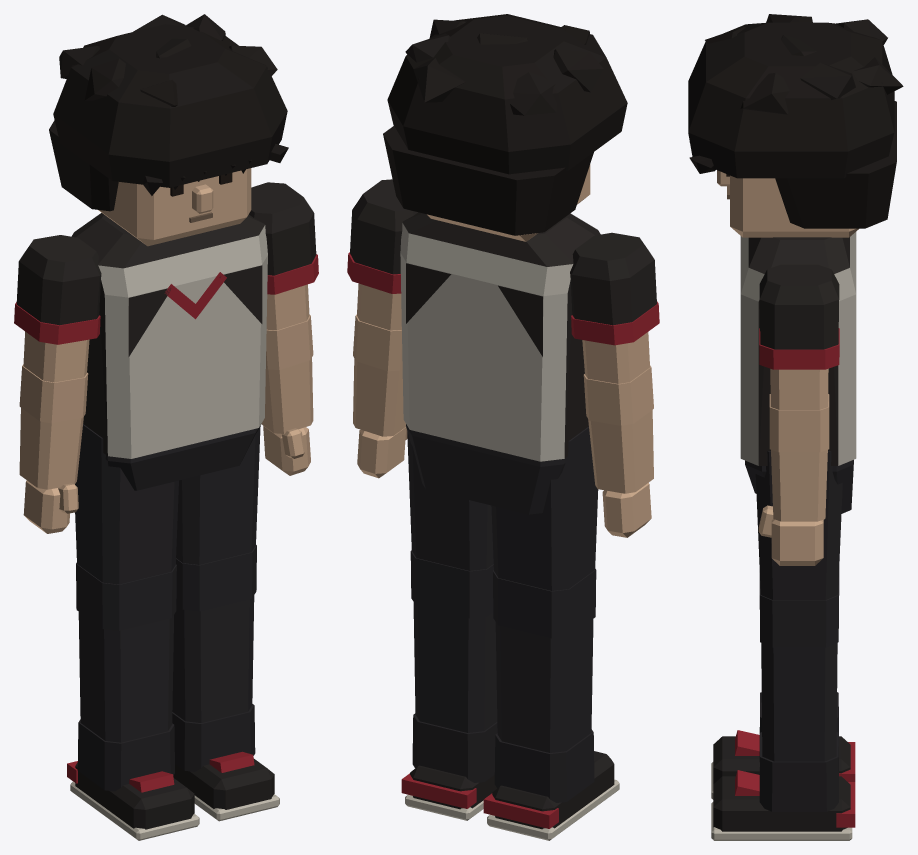
The model's file is tl_char_host_keria_v01.glb.
3 views of the same model, side by side, from view 1: azimuth 30°, elevation 25°; view 2: azimuth 150°, elevation 25°; view 3: azimuth 270°, elevation 25° (orthographic). The views are drawn at different scales.
Visible parts, largest first — view 1: head, spine, leg_lower_r, leg_lower_l, leg_upper_r, arm_upper_r, arm_lower_r, leg_upper_l, arm_upper_l, arm_lower_l, hips; view 2: head, spine, leg_lower_r, leg_lower_l, arm_upper_r, leg_upper_r, arm_lower_r, hips, arm_lower_l, arm_upper_l, leg_upper_l; view 3: head, leg_lower_l, spine, arm_upper_l, arm_lower_l, leg_upper_l, leg_lower_r, hips.
Boxes of the visible parts, x1=… form: head: x1=49, y1=14, x2=288, y2=246; spine: x1=71, y1=213, x2=267, y2=458; leg_lower_r: x1=67, y1=562, x2=199, y2=840; leg_lower_l: x1=172, y1=545, x2=279, y2=821; leg_upper_r: x1=75, y1=424, x2=178, y2=584; arm_upper_r: x1=14, y1=235, x2=101, y2=382; arm_lower_r: x1=19, y1=364, x2=88, y2=533; leg_upper_l: x1=176, y1=426, x2=260, y2=564; arm_upper_l: x1=249, y1=182, x2=318, y2=330; arm_lower_l: x1=261, y1=315, x2=313, y2=475; hips: x1=105, y1=425, x2=260, y2=490; head: x1=383, y1=14, x2=627, y2=241; spine: x1=400, y1=212, x2=600, y2=461; leg_lower_r: x1=483, y1=569, x2=619, y2=840; leg_lower_l: x1=401, y1=550, x2=497, y2=820; arm_upper_r: x1=570, y1=232, x2=659, y2=383; leg_upper_r: x1=491, y1=426, x2=598, y2=590; arm_lower_r: x1=583, y1=365, x2=653, y2=537; hips: x1=406, y1=424, x2=565, y2=514; arm_lower_l: x1=353, y1=314, x2=407, y2=478; arm_upper_l: x1=347, y1=179, x2=417, y2=330; leg_upper_l: x1=407, y1=432, x2=493, y2=570; head: x1=688, y1=14, x2=903, y2=237; leg_lower_l: x1=711, y1=569, x2=855, y2=840; spine: x1=740, y1=232, x2=856, y2=465; arm_upper_l: x1=759, y1=264, x2=839, y2=409; arm_lower_l: x1=758, y1=394, x2=829, y2=565; leg_upper_l: x1=755, y1=451, x2=842, y2=600; leg_lower_r: x1=711, y1=692, x2=855, y2=799; hips: x1=745, y1=460, x2=853, y2=513.
Bounding box in the file's own units: 0.6665 × 1.71 × 0.4352.
